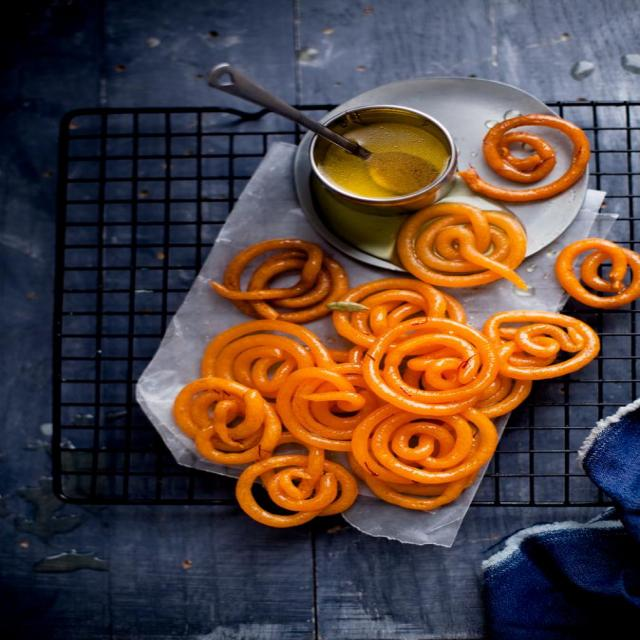jalebi: (185, 207, 632, 512), (453, 81, 620, 209)
